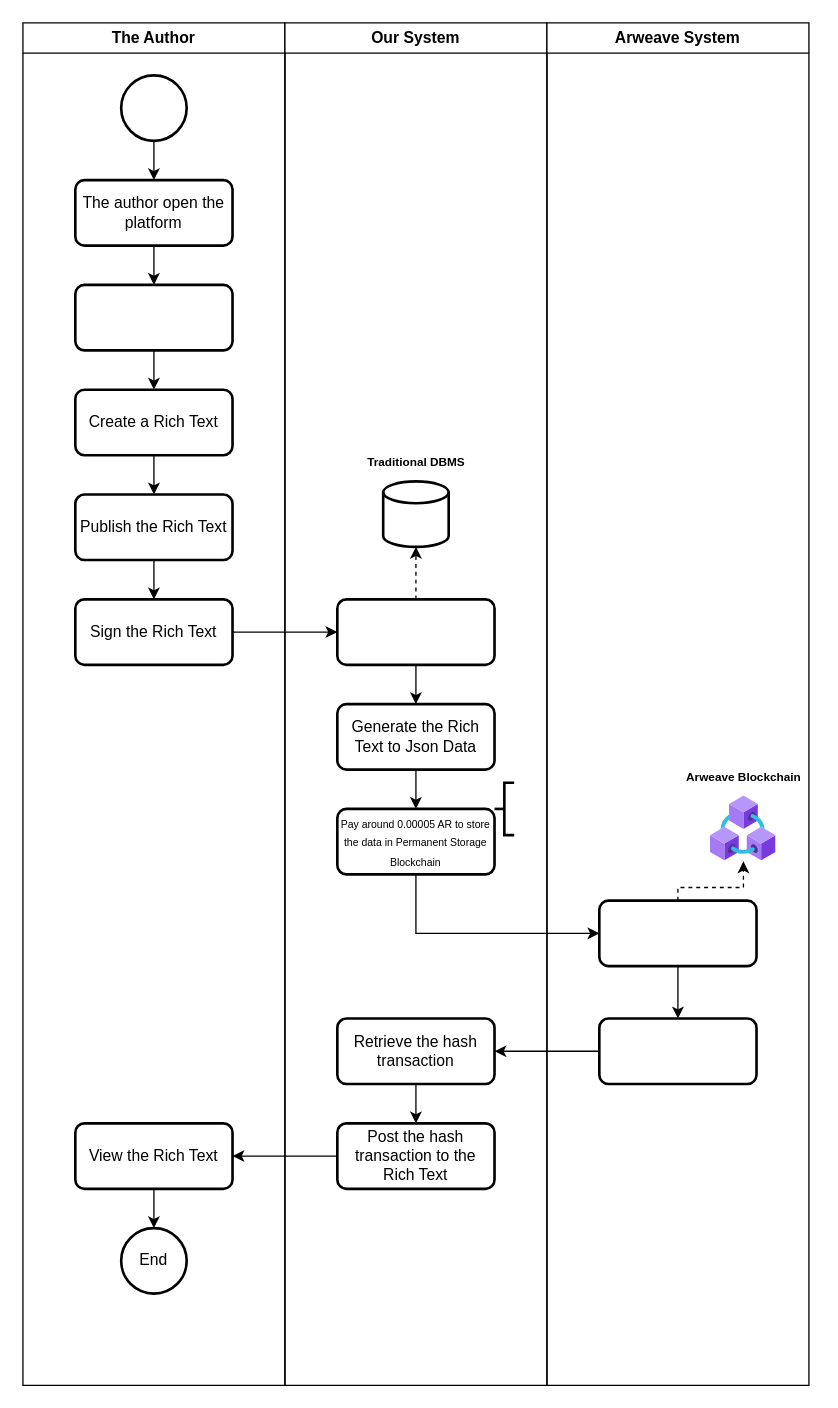
This 838x1408 diagram has some shape labels left out. Each missing label, with the centre of its shape:
Generate a hash transaction: (677,1051)
Login with Connect to Wallet (Metamask): (153,317)
Start: (153,107)
Store the data on Blokchain: (677,933)
Store the Rich Text: (415,631)
Subsidized by the system: (504,808)
